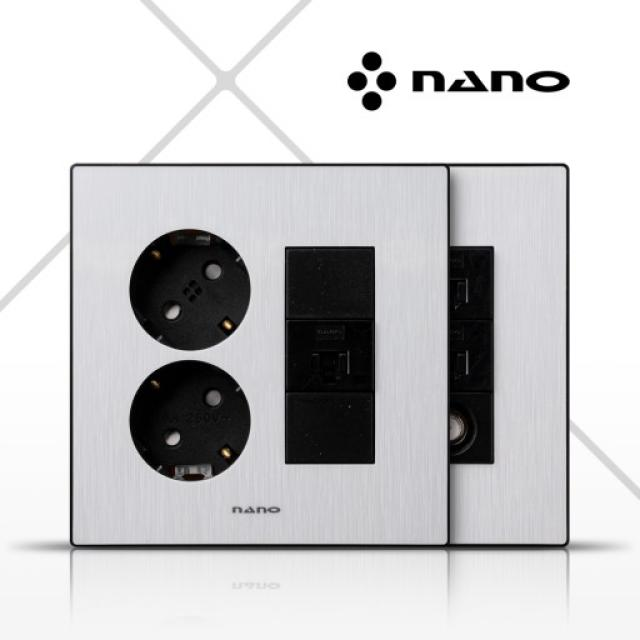typeb: (53, 138, 271, 577)
